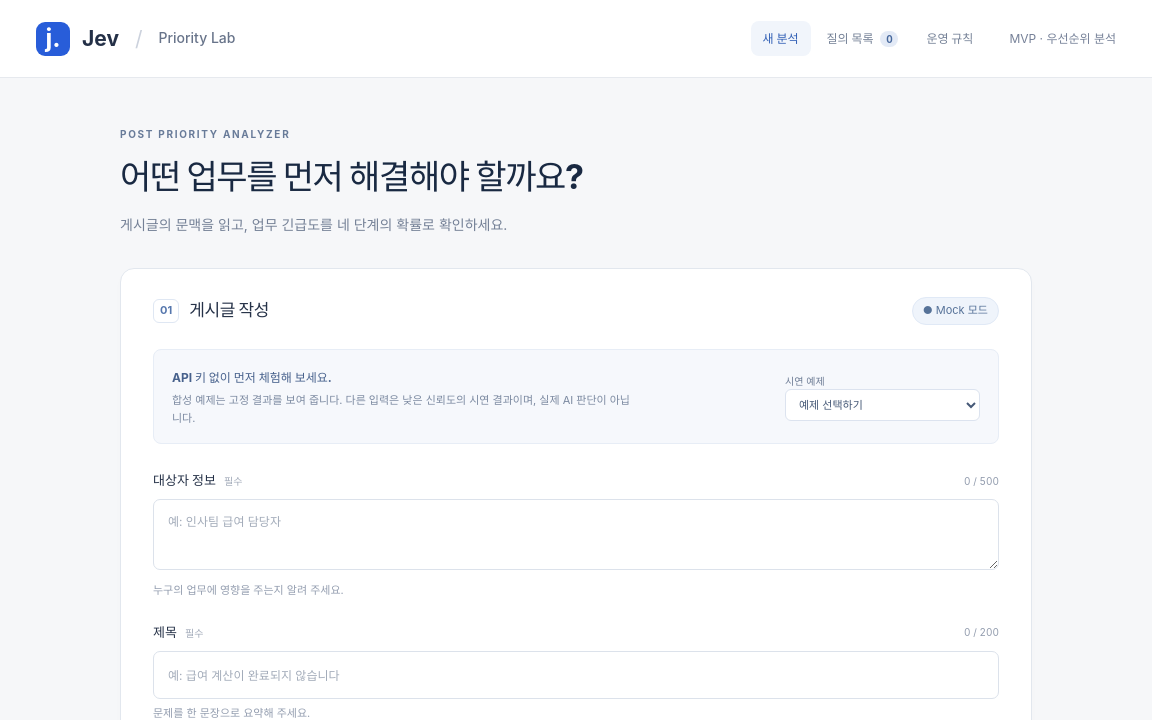
Test: shows an empty query list and returns to analysis
The width and height of the screenshot is (1152, 720).
Expected: the text "● Mock 모드" is shown, [912,297,999,325]
Click the button "질의 목록 0": (862, 38) [814,21,910,56]
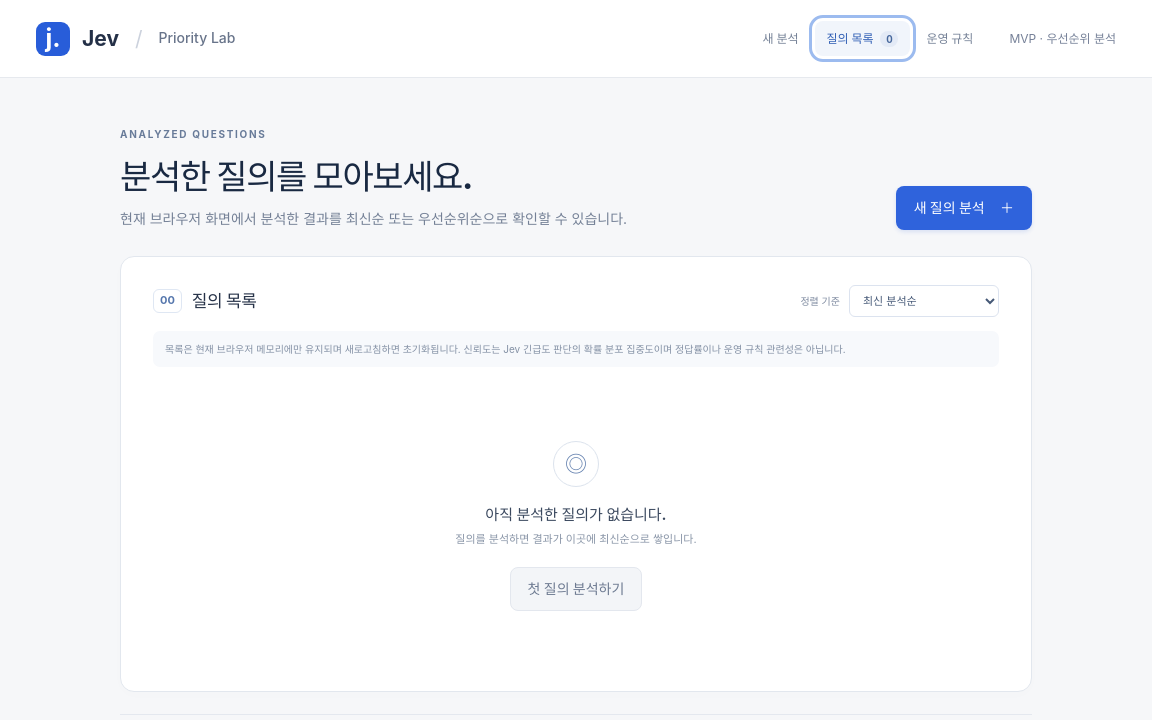
Result: the heading "질의 목록" is shown at [192,288,256,315]
Result: the heading "아직 분석한 질의가 없습니다." is shown at [485,505,667,524]
Result: the dropdown named "질의 정렬 기준" shows "최신 분석순" at [849,285,999,317]
Click the button "첫 질의 분석하기": (576, 589) [510,567,642,611]
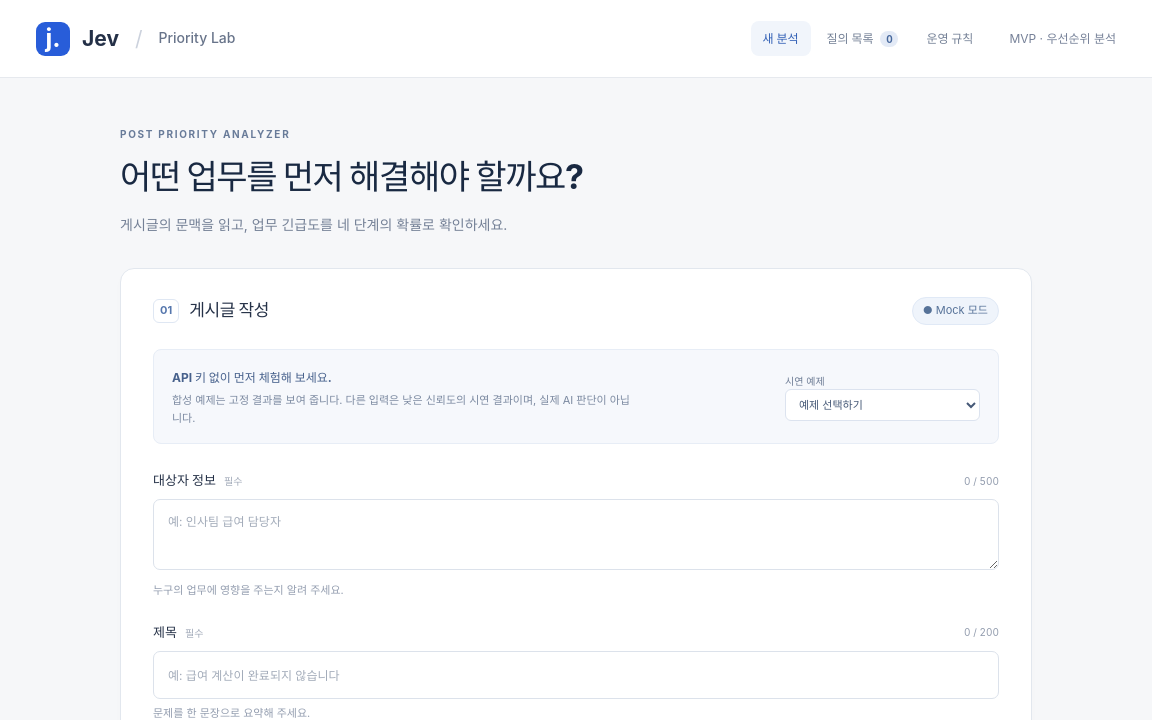
Result: the heading "게시글 작성" is shown at [189,298,269,325]
